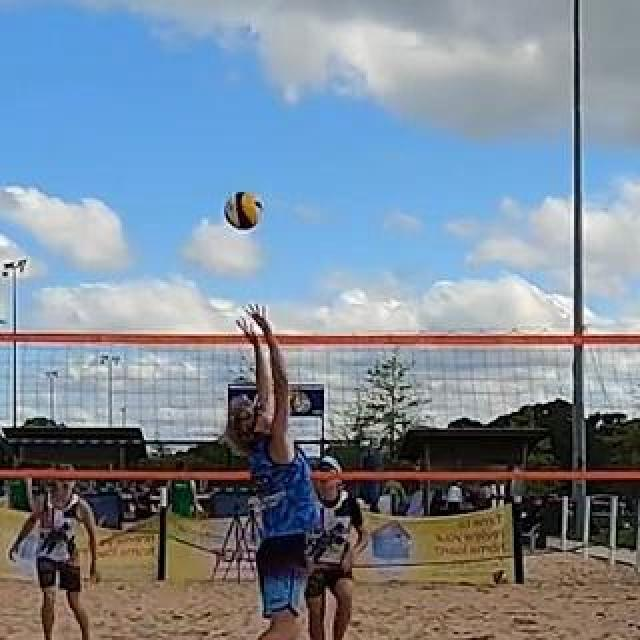volleyball: (225, 191, 261, 229), (494, 569, 508, 585)
